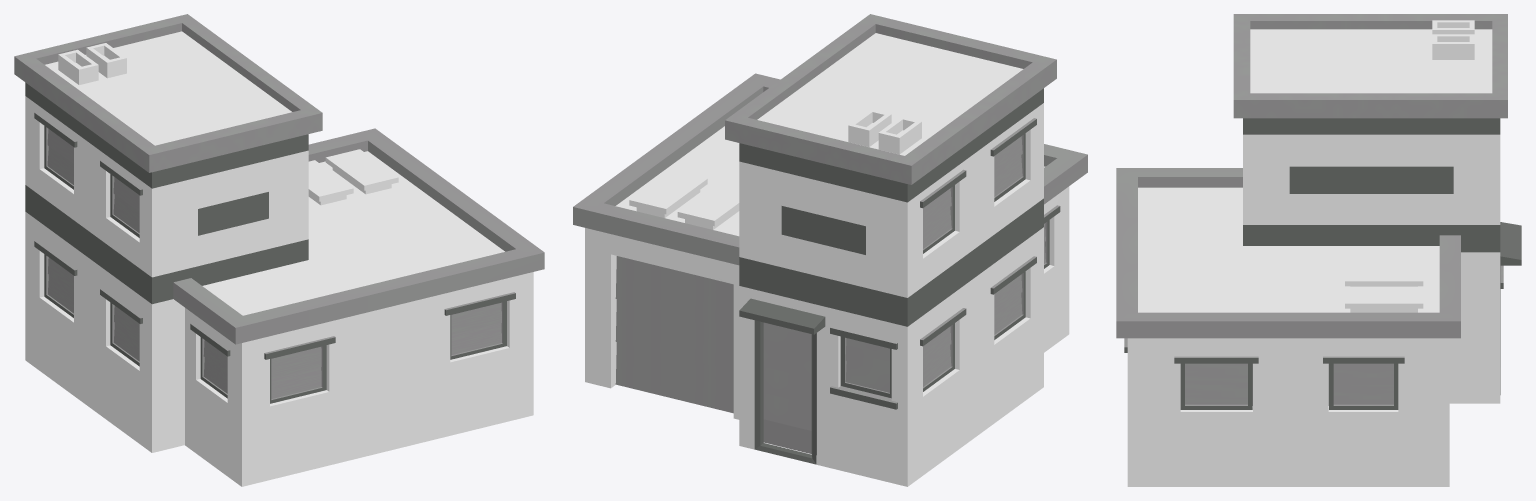
The model's file is purpose.003.glb.
The picture shows the model from 3 angles, left to right: view 1: azimuth 30°, elevation 25°; view 2: azimuth 150°, elevation 25°; view 3: azimuth 270°, elevation 25°; orthographic projection. The views are drawn at different scales.
Parts seen in each view (by area): view 1: purpose.003(Clone); view 2: purpose.003(Clone); view 3: purpose.003(Clone).
Part boxes in pixels (box(x1,y1,x2,y2)): purpose.003(Clone): box(14, 14, 544, 486); purpose.003(Clone): box(573, 14, 1087, 486); purpose.003(Clone): box(1116, 14, 1521, 486).
Size of the model in its own units: 7.41 by 6.52 by 7.57.
Materials: 1 (1 with a texture image).
